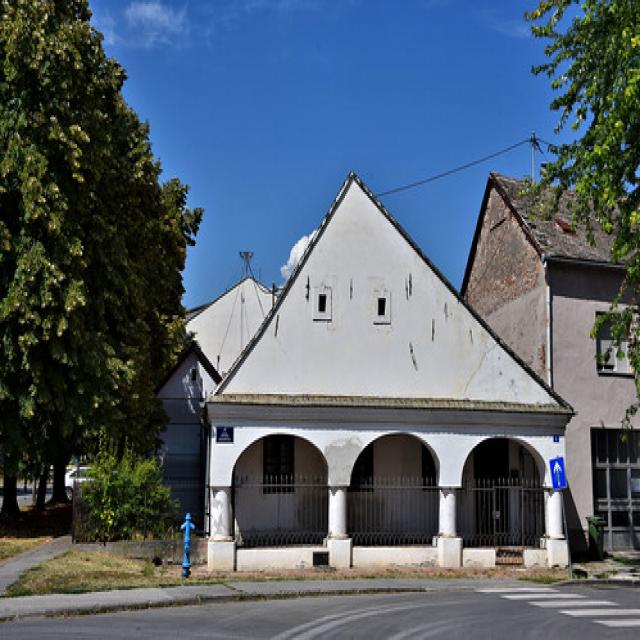Normal_building: (198, 173, 578, 596), (458, 174, 639, 589)
